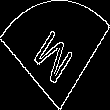M_SW: (31, 21, 79, 89)
